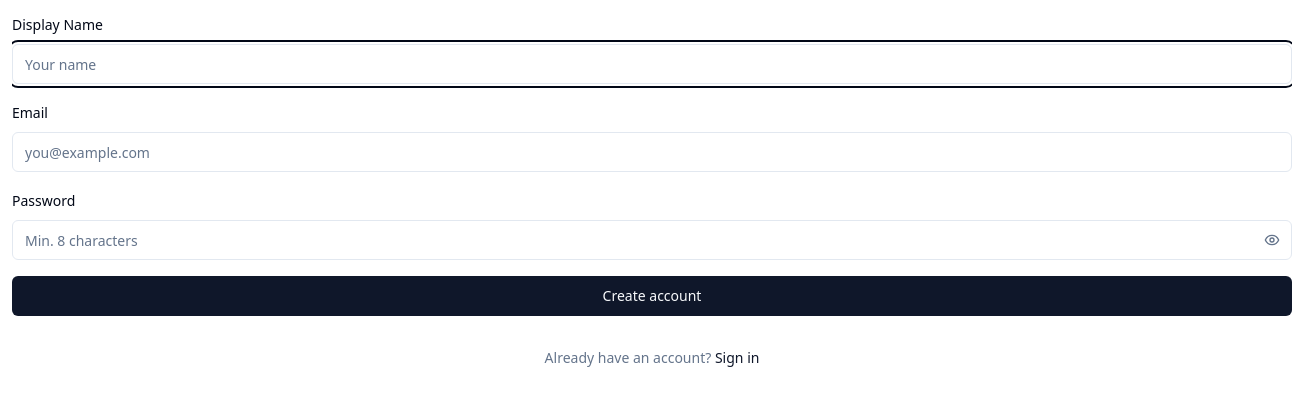
Test: RegisterForm › shows password strength indicator
// Short password
Type "short" into the password field labelled "Password" at x=652, y=240, box [12,220,1292,260]
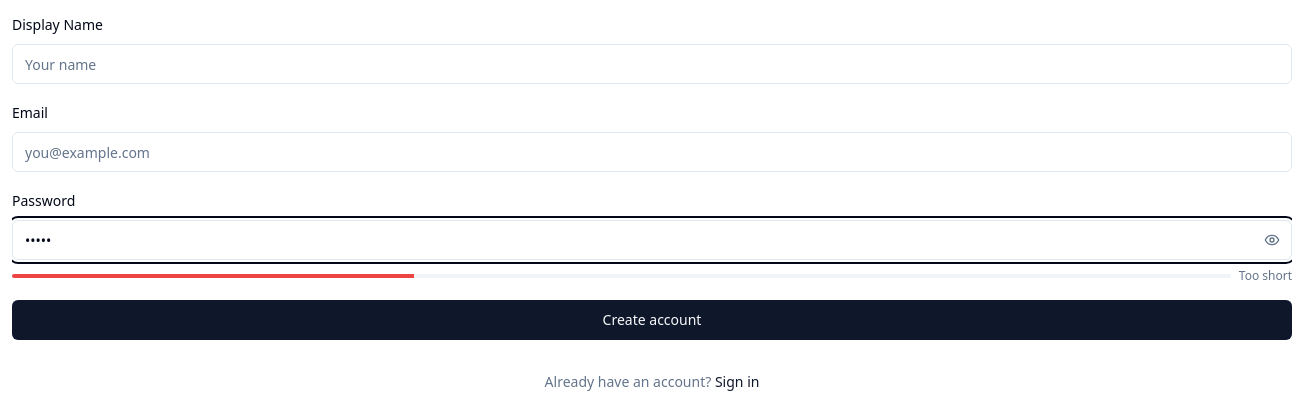
Now the text "Too short" is shown, box [1239,268,1292,284]
// Medium password
Type "mediumpass" into the password field labelled "Password" at x=652, y=240, box [12,220,1292,260]
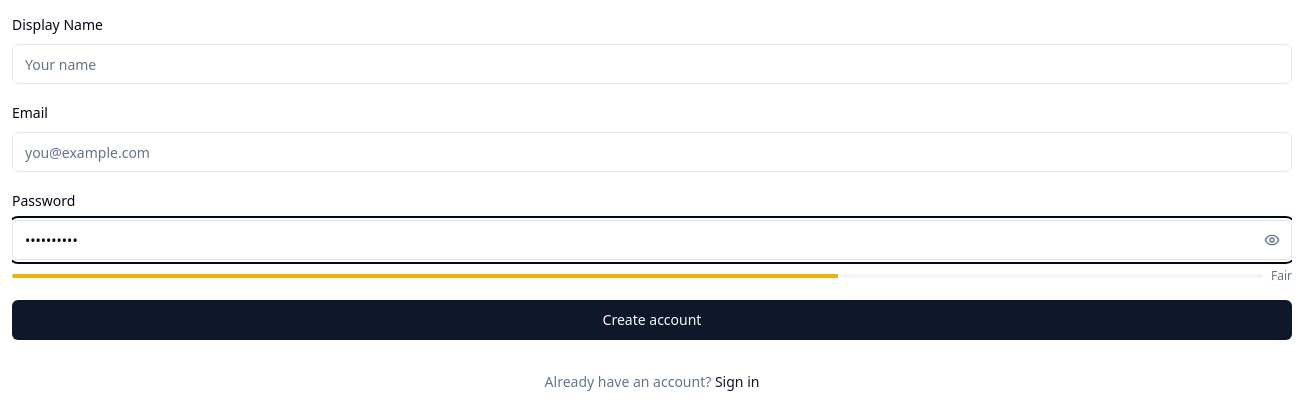
Now the text "Fair" is shown, box [1271,268,1292,284]
// Strong password
Type "verystrongpassword123" into the password field labelled "Password" at x=652, y=240, box [12,220,1292,260]
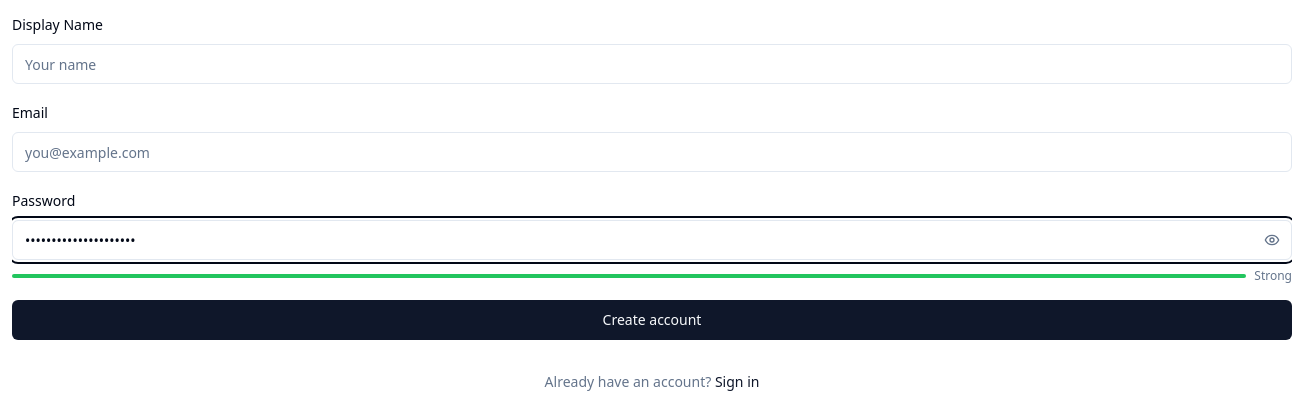
Now the text "Strong" is shown, box [1254,268,1292,284]
